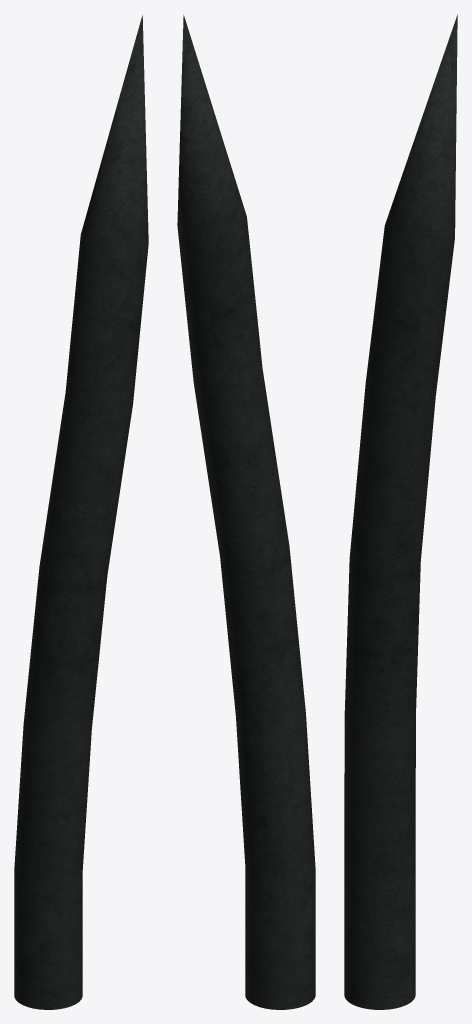
Rendered from dark_spike.glb.
The picture shows the model from 3 angles, left to right: view 1: azimuth 30°, elevation 25°; view 2: azimuth 210°, elevation 25°; view 3: azimuth 330°, elevation 25°; orthographic projection. The views are drawn at different scales.
Visible parts, largest first — view 1: Cube; view 2: Cube; view 3: Cube.
Part boxes in pixels (x1,y1,x2,y2): Cube: [14, 15, 148, 1009]; Cube: [177, 15, 315, 1009]; Cube: [344, 14, 457, 1009].
Size of the model in its own units: 3.84 by 31.18 by 2.9.
1 material, 1 textured.
